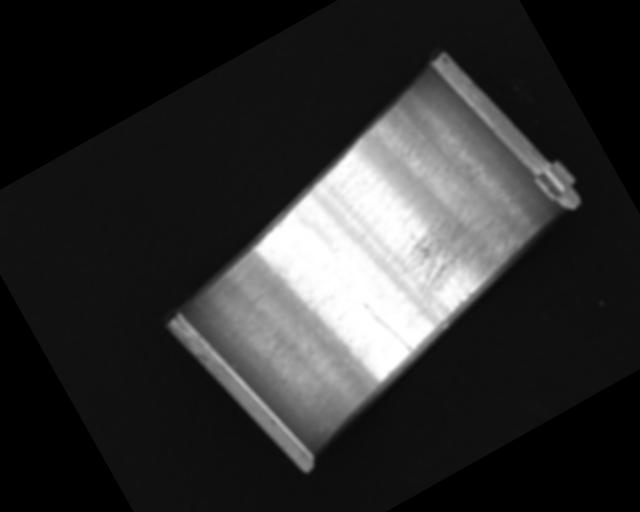nick: (195, 277, 279, 379), (362, 294, 413, 360)
scratch: (389, 188, 536, 327)
